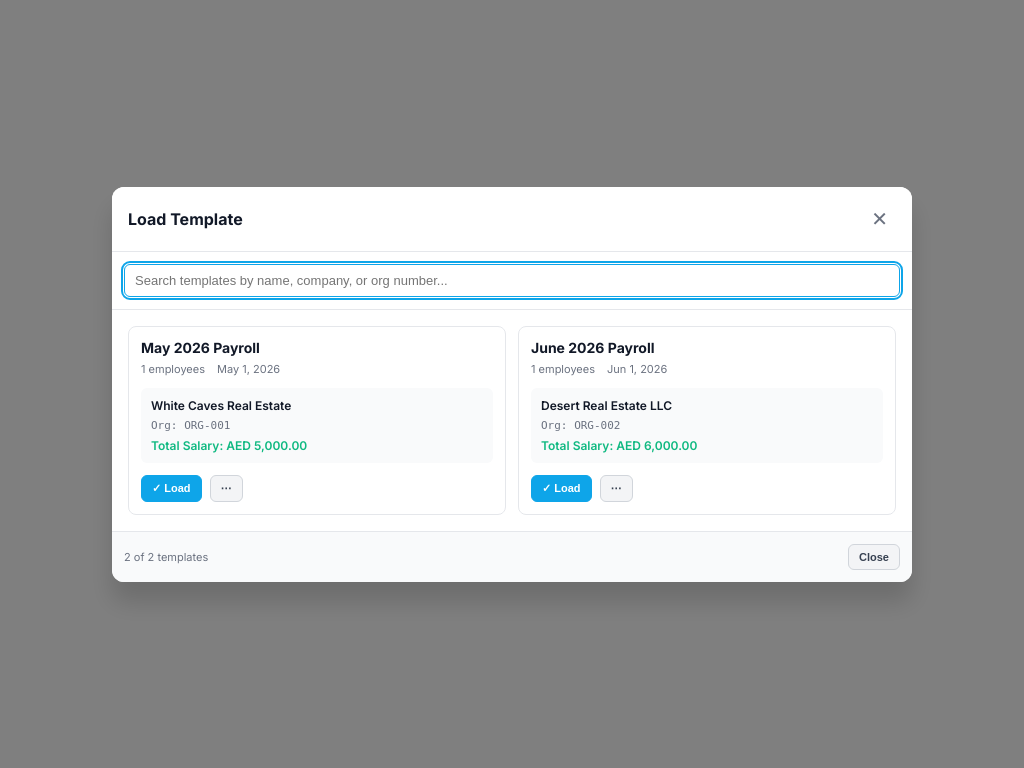
Test case: TemplateSelectorModal — search filtering › filters by organizationName
This screenshot has width=1024, height=768.
Type "desert" into the field at (512, 280), box [124,264,900,296]
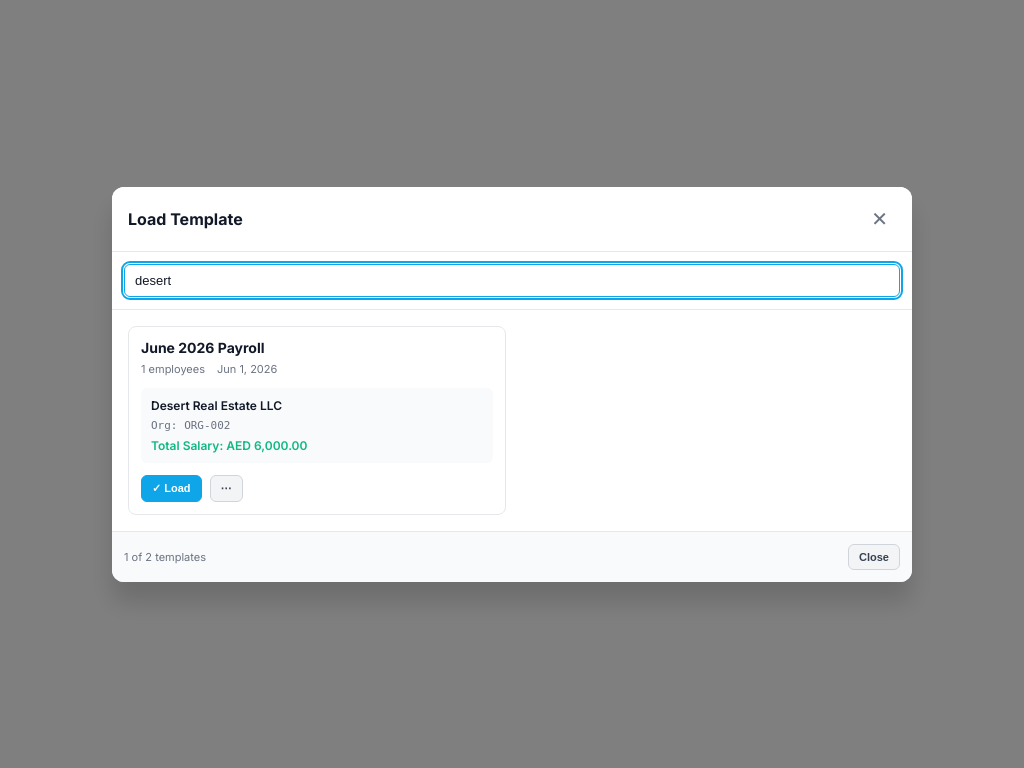
expect the text "June 2026 Payroll" is shown: met, box [141,338,264,356]
expect the text "May 2026 Payroll" is gone: met
